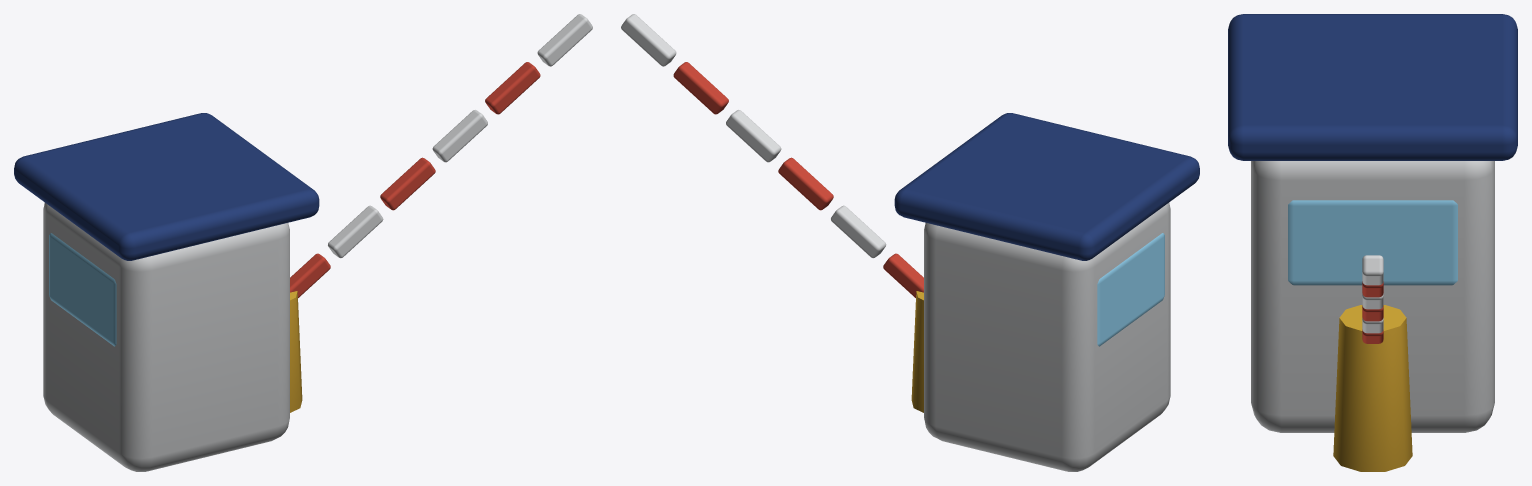
Rendered from checkpoint.glb.
The picture shows the model from 3 angles, left to right: view 1: azimuth 30°, elevation 25°; view 2: azimuth 150°, elevation 25°; view 3: azimuth 270°, elevation 25°; orthographic projection. The views are drawn at different scales.
Visible parts, largest first — view 1: checkpoint, checkpoint_windows; view 2: checkpoint, checkpoint_windows; view 3: checkpoint, checkpoint_windows.
Part boxes in pixels (<box>): checkpoint: <box>14,14,592,471</box>; checkpoint_windows: <box>49,233,116,346</box>; checkpoint: <box>621,14,1199,471</box>; checkpoint_windows: <box>1097,233,1164,346</box>; checkpoint: <box>1228,14,1517,471</box>; checkpoint_windows: <box>1288,200,1457,285</box>.
Bounding box in the file's own units: 4.99 × 2.83 × 1.9.
